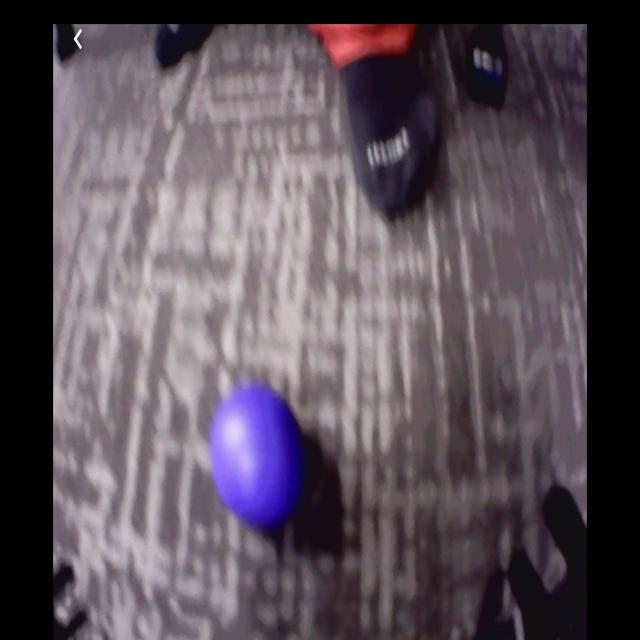ball: (213, 383, 304, 528)
